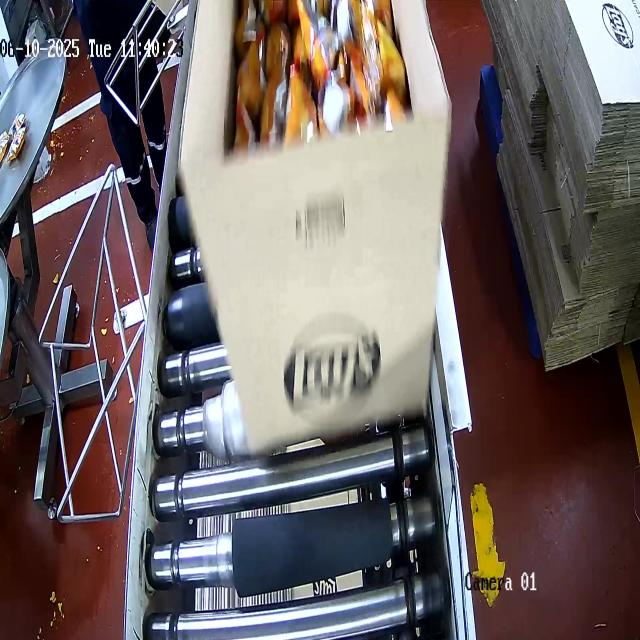FRENCH_CHEESE: (224, 0, 409, 165)
